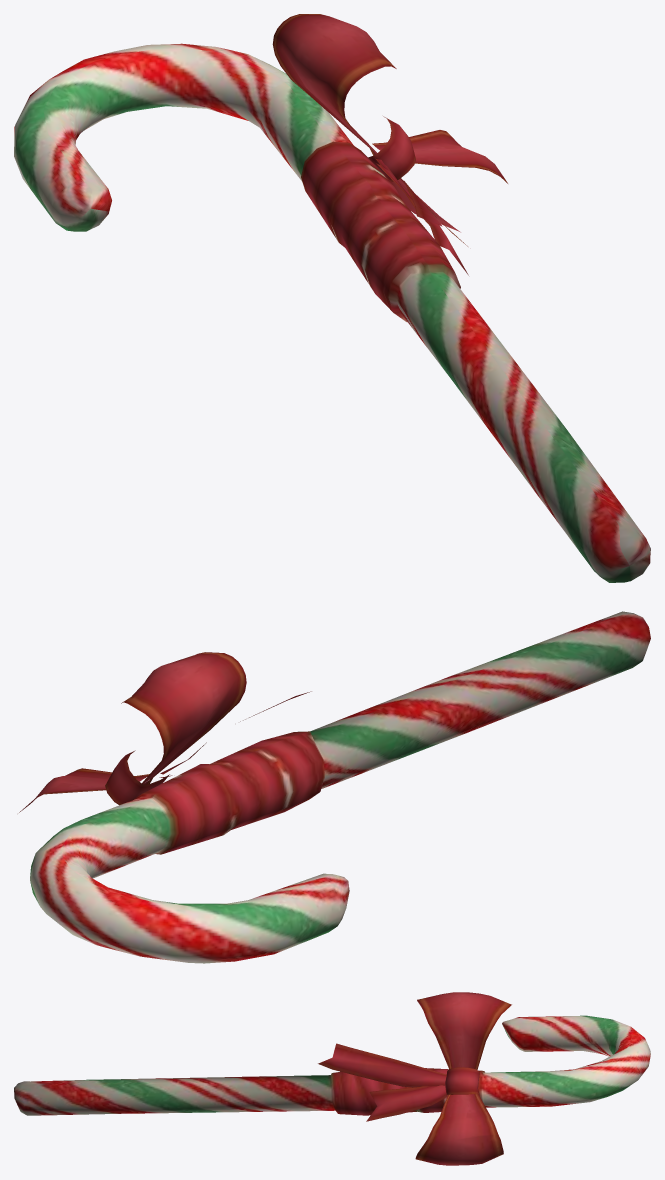
File: candy_cane.entity.glb
The picture shows the model from 3 angles, top to bottom: view 1: azimuth 30°, elevation 25°; view 2: azimuth 150°, elevation 25°; view 3: azimuth 270°, elevation 25°; orthographic projection. The views are drawn at different scales.
Parts seen in each view (by area): view 1: w_candy_cane_club_LOD0; view 2: w_candy_cane_club_LOD0; view 3: w_candy_cane_club_LOD0.
Part boxes in pixels (x1,y1,x2,y2): w_candy_cane_club_LOD0: (14,14,650,582); w_candy_cane_club_LOD0: (19,611,650,963); w_candy_cane_club_LOD0: (14,992,650,1165).
Size of the model in its own units: 0.2193 by 0.1385 by 0.547.
1 material, 1 textured.
